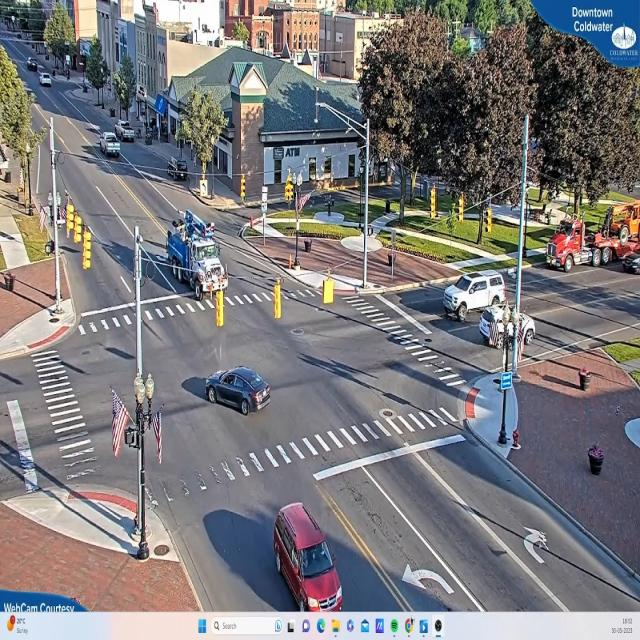car: (272, 506, 342, 614), (441, 270, 509, 320), (206, 368, 272, 418), (480, 307, 538, 344), (99, 134, 121, 158), (620, 257, 639, 275), (119, 122, 136, 142), (40, 72, 54, 87)
truck: (166, 220, 224, 292)
